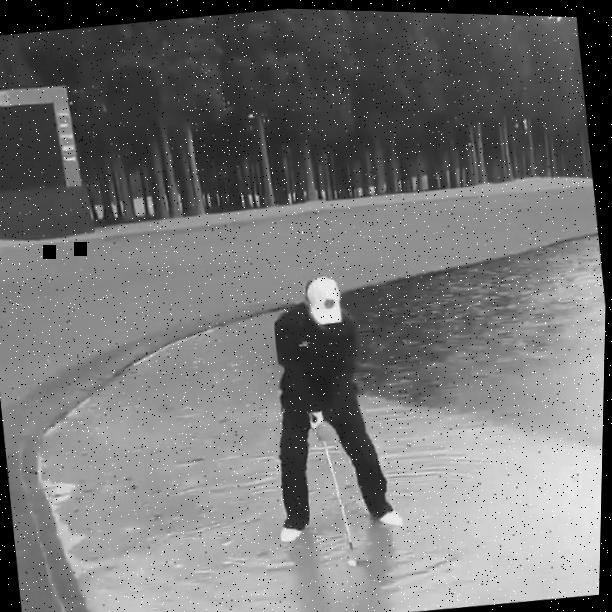ClubHead: (357, 555, 373, 563)
GolfBall: (351, 556, 359, 565)
